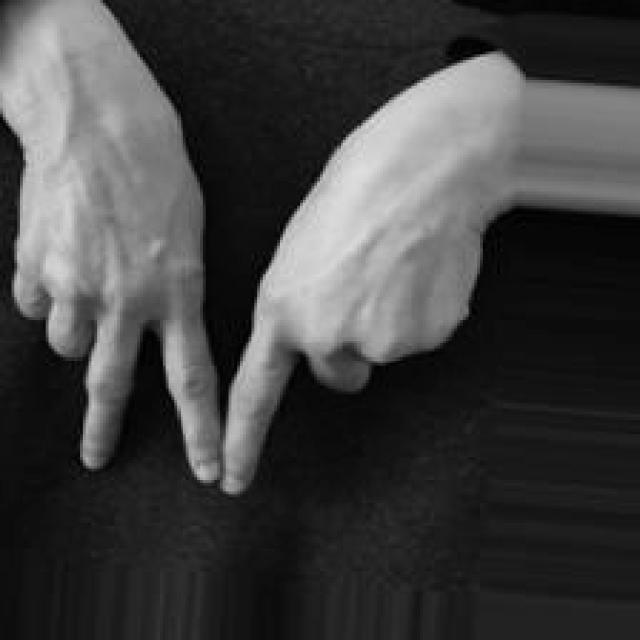N: (2, 84, 492, 501)
